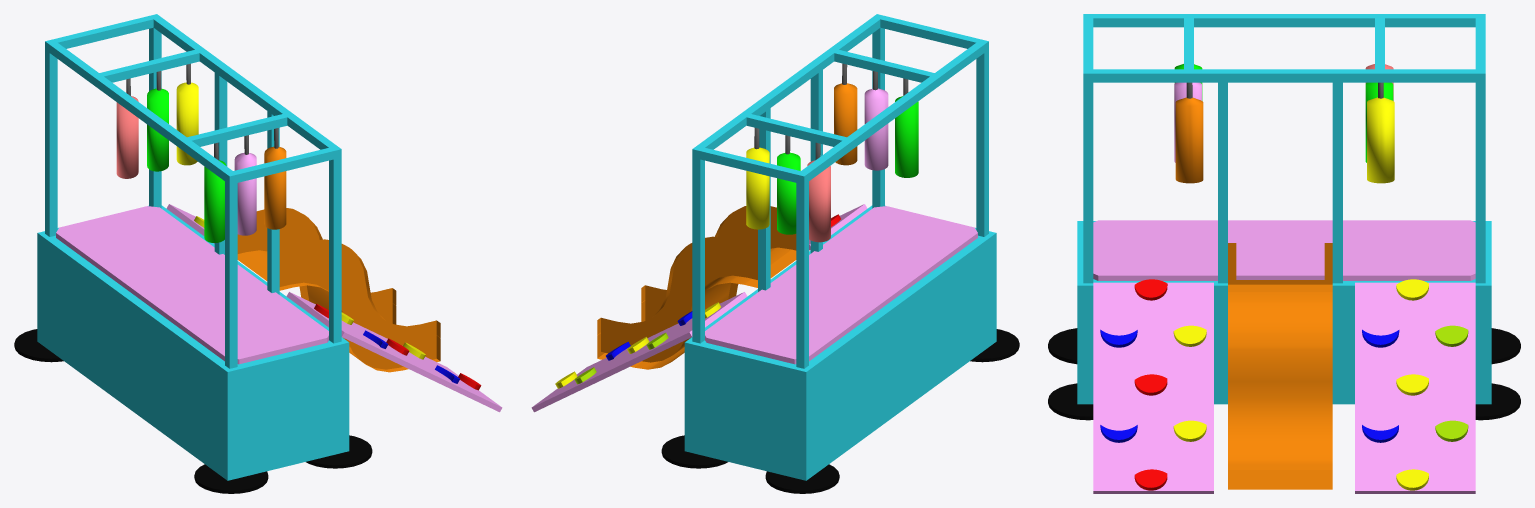
The model's file is salao-vila-do-sol.glb.
3 renders of one model, left to right at view 1: azimuth 30°, elevation 25°; view 2: azimuth 150°, elevation 25°; view 3: azimuth 270°, elevation 25°, orthographic. The views are drawn at different scales.
Visible parts, largest first — view 1: Group19, Group18, Group4, Group12, Group1, G_675_3, G_675_1, Group11, G_3250_3, G_3250_4, G_3250_1, Group20 (+15 smaller); view 2: Group19, Group18, Group3, Group12, Group1, G_675_3, Group17, G_675_1, G_3250_1, G_3250_2, G_3250_3, SACOS_DE_PANCADA_12_1 (+15 smaller); view 3: Group12, Group11, Group17, Group18, Group5, G_675_1, G_675_3, Group1, Group8, Group14, SACOS_DE_PANCADA_12_1, G_3250_2 (+14 smaller).
Boxes of the visible parts, <box> form: Group19: <box>37,232,232,480</box>; Group18: <box>56,206,328,364</box>; Group4: <box>230,340,349,479</box>; Group12: <box>237,208,440,372</box>; Group1: <box>204,128,286,242</box>; G_675_3: <box>49,43,232,180</box>; G_675_1: <box>153,17,336,149</box>; Group11: <box>286,292,502,412</box>; G_3250_3: <box>225,171,237,368</box>; G_3250_4: <box>329,146,341,343</box>; G_3250_1: <box>45,39,57,236</box>; Group20: <box>116,78,138,178</box>; Group19: <box>801,232,996,480</box>; Group18: <box>705,206,977,364</box>; Group3: <box>684,340,803,479</box>; Group12: <box>597,206,796,369</box>; Group1: <box>834,63,918,177</box>; G_675_3: <box>801,43,984,180</box>; Group17: <box>531,292,747,412</box>; G_675_1: <box>697,17,880,149</box>; G_3250_1: <box>796,171,808,368</box>; G_3250_2: <box>692,146,704,343</box>; G_3250_3: <box>976,39,988,236</box>; SACOS_DE_PANCADA_12_1: <box>746,128,769,229</box>; Group12: <box>1228,243,1332,489</box>; Group11: <box>1093,282,1213,493</box>; Group17: <box>1355,282,1475,493</box>; Group18: <box>1093,220,1475,280</box>; Group5: <box>1083,283,1485,404</box>; G_675_1: <box>1093,69,1475,82</box>; G_675_3: <box>1093,14,1475,27</box>; Group1: <box>1174,64,1203,183</box>; Group8: <box>1134,279,1206,490</box>; Group14: <box>1396,279,1468,490</box>; SACOS_DE_PANCADA_12_1: <box>1367,82,1394,183</box>; G_3250_2: <box>1475,69,1485,283</box>.
Size of the model in its own units: 1.93 by 1.83 by 2.35.
